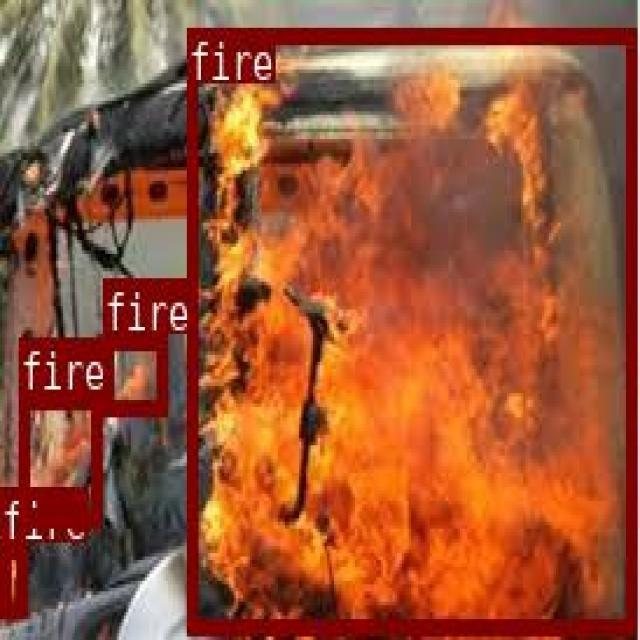fire: (187, 26, 634, 631), (18, 390, 100, 524), (103, 332, 166, 411), (0, 539, 23, 612)
